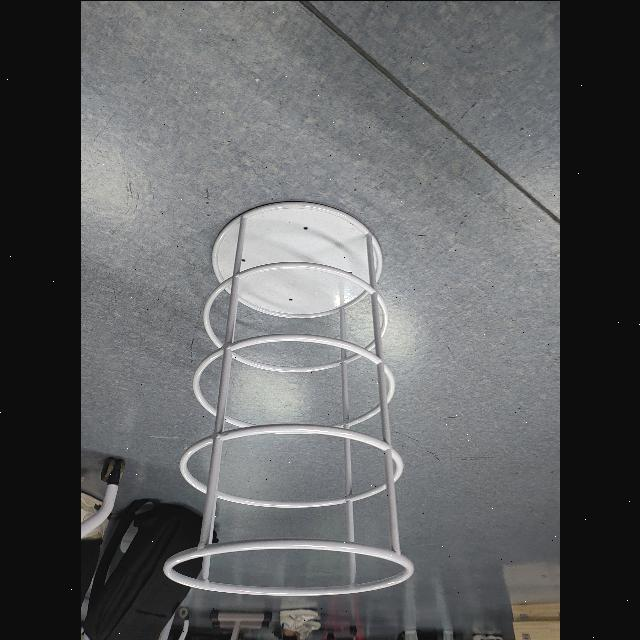S: (157, 194, 419, 604)
